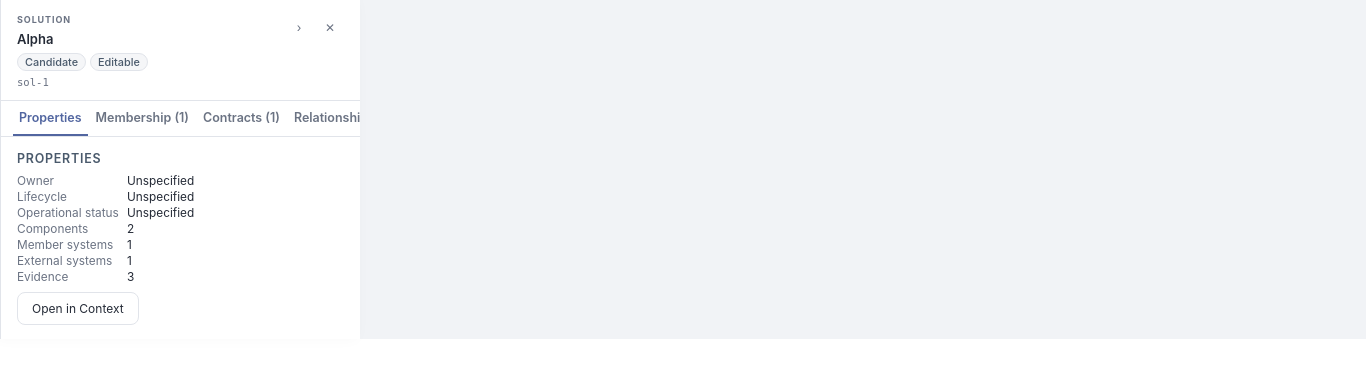
Test: SolutionLandscapeInspector › surfaces an unavailable archived Contract association explicitly
Click the button "Contracts (1)".
click(241, 118)  # box [197,101,286,136]
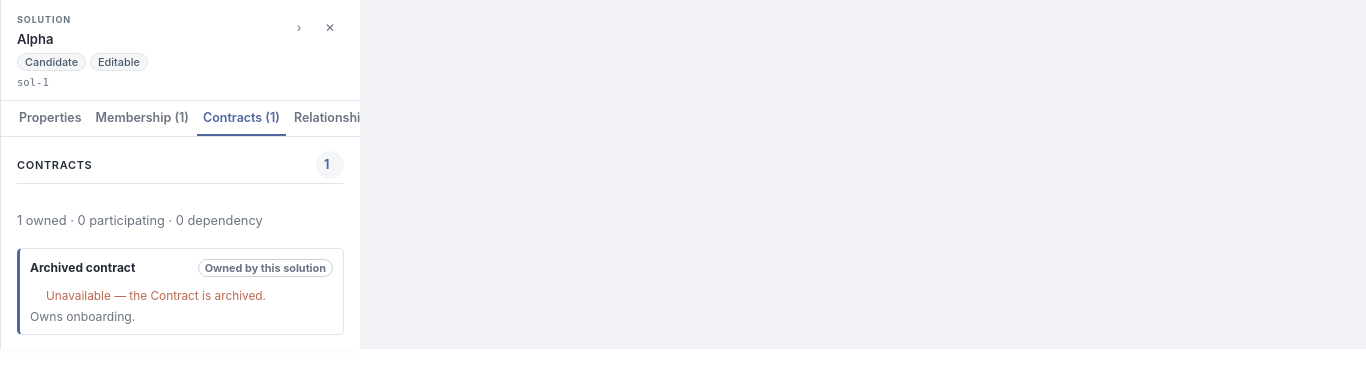
Expected: the text "Archived contract" is shown, [30,260,135,275]
Expected: the text "Unavailable — the Contract is archived." is shown, [46,289,266,303]
